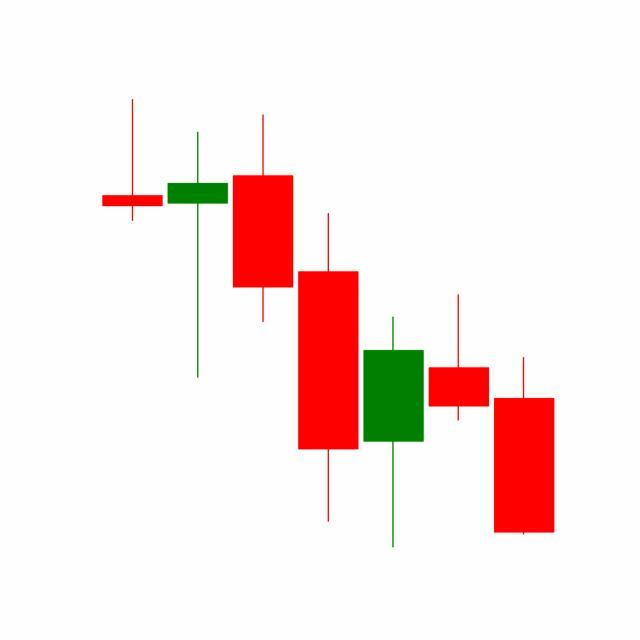Three Inside Up-Down: (360, 290, 556, 548)
